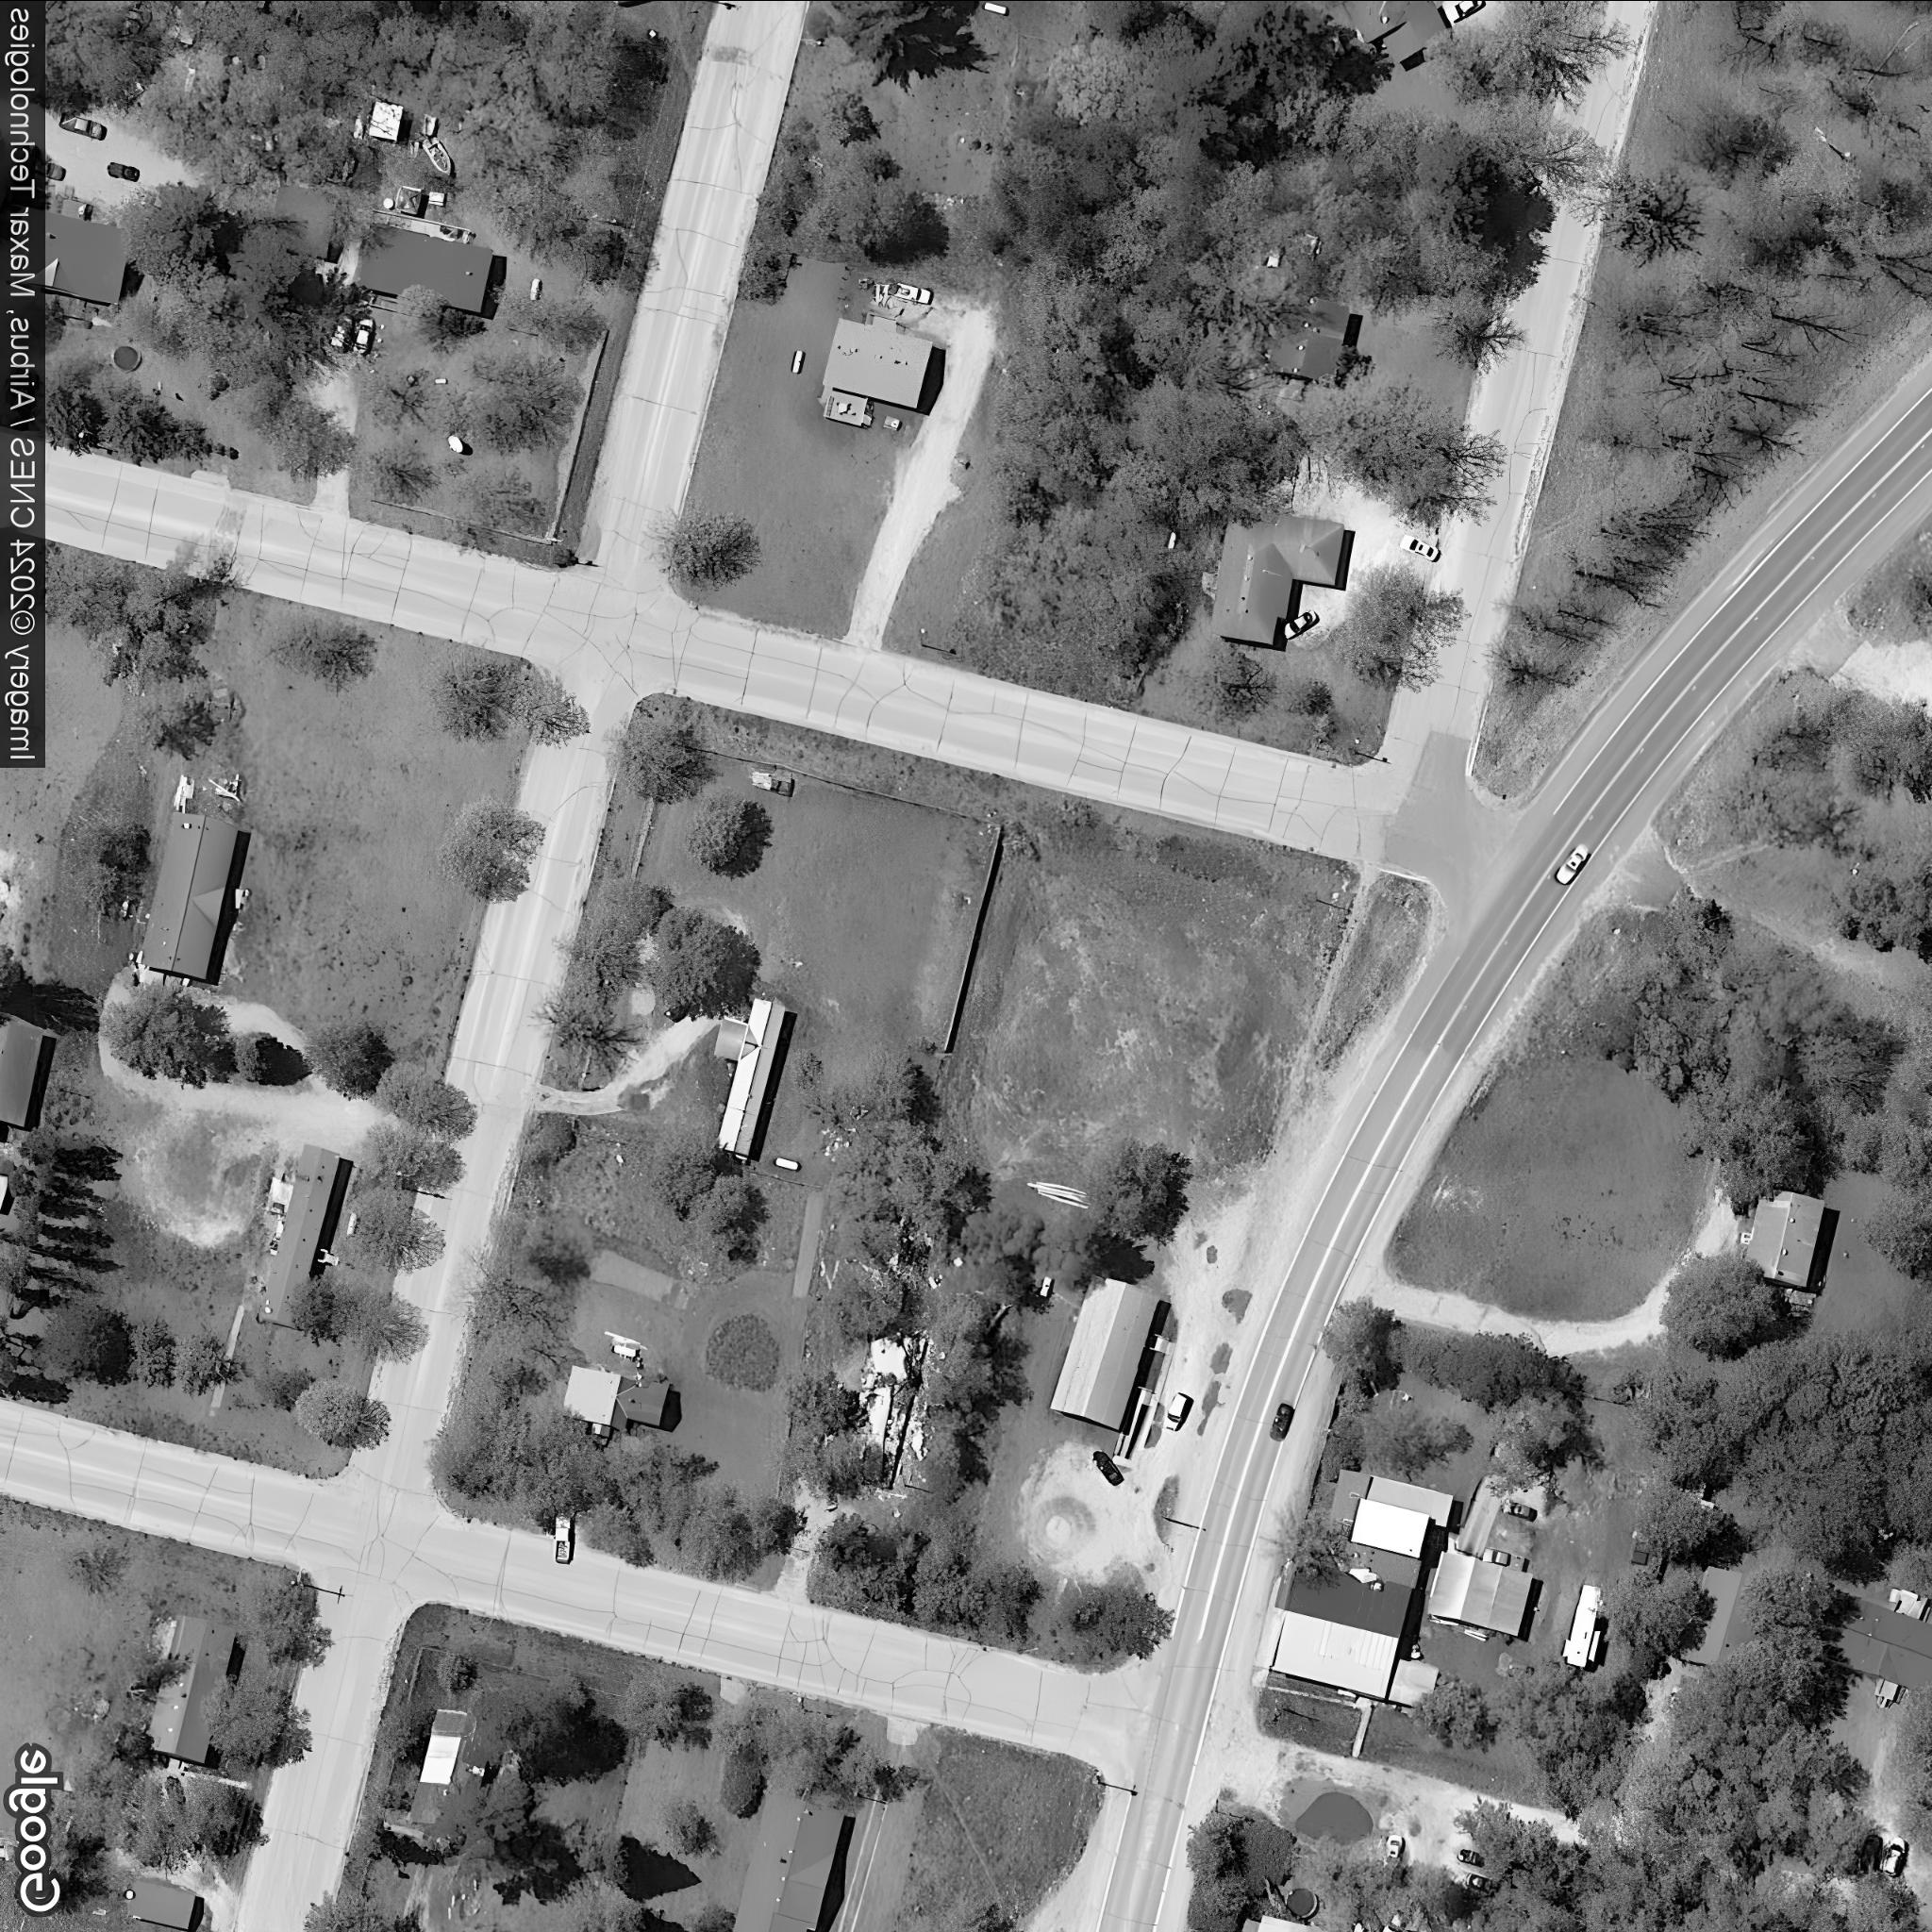Garage: (1426, 1548, 1536, 1635), (269, 182, 338, 258), (127, 1875, 198, 1930), (982, 2, 1012, 18)
House: (1270, 1467, 1454, 1709), (1210, 506, 1345, 646), (1047, 1272, 1162, 1431), (142, 809, 239, 980), (732, 1790, 846, 1932), (143, 1612, 239, 1766), (1801, 1583, 1932, 1691), (354, 223, 494, 311), (409, 1707, 499, 1836), (821, 315, 934, 409), (1677, 1564, 1773, 1674), (1739, 1184, 1828, 1292), (561, 1361, 671, 1440), (1265, 287, 1350, 387), (46, 212, 129, 304), (1339, 2, 1449, 62), (2, 1017, 42, 1127), (1254, 1911, 1334, 1932)
Propane: (610, 1341, 639, 1361), (771, 1157, 803, 1171), (789, 349, 807, 373), (1039, 1274, 1056, 1297), (345, 1210, 361, 1235), (1166, 527, 1182, 552), (527, 276, 543, 301)
Trailer: (258, 1143, 341, 1329), (715, 996, 789, 1157), (1562, 1582, 1606, 1665)
